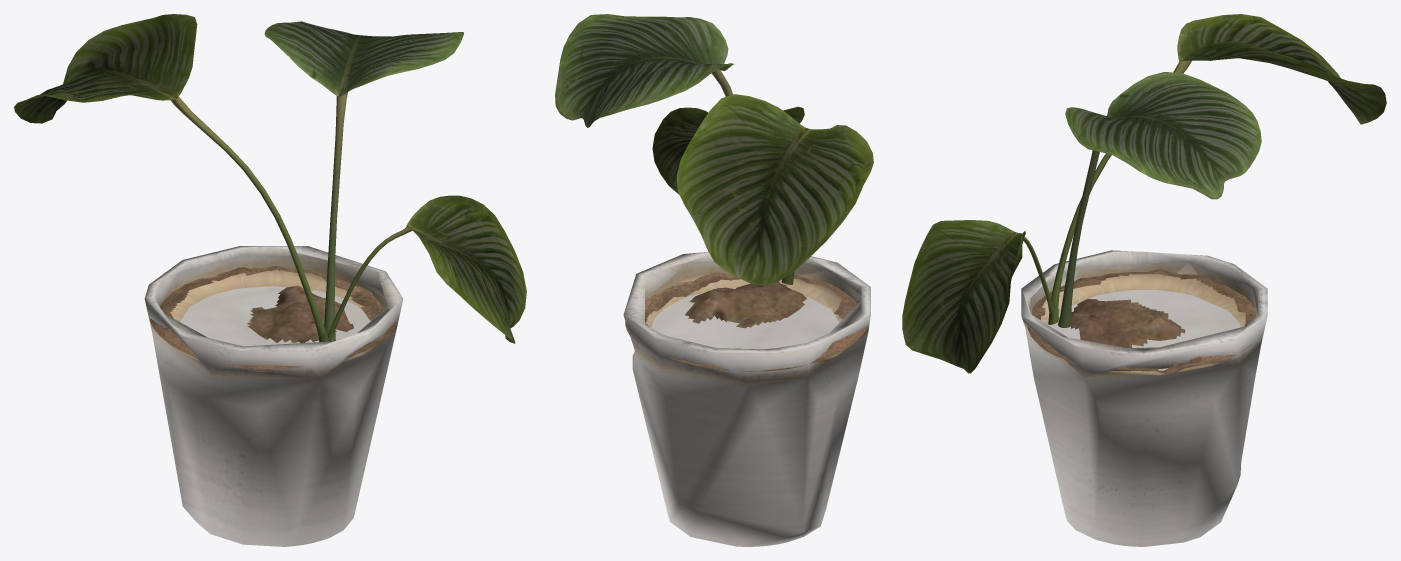
Rendered from doniczka_kalatea_1.glb.
3 renders of one model, left to right at view 1: azimuth 30°, elevation 25°; view 2: azimuth 150°, elevation 25°; view 3: azimuth 270°, elevation 25°, orthographic.
Visible parts, largest first — view 1: doniczka, roslina, ziemia; view 2: doniczka, roslina, ziemia; view 3: doniczka, roslina, ziemia.
Boxes of the visible parts, bbox=[...] form: doniczka: bbox=[144, 246, 403, 546]; roslina: bbox=[14, 14, 526, 343]; ziemia: bbox=[149, 266, 396, 369]; doniczka: bbox=[623, 251, 870, 546]; roslina: bbox=[555, 14, 873, 285]; ziemia: bbox=[625, 272, 867, 371]; doniczka: bbox=[1021, 250, 1267, 546]; roslina: bbox=[902, 14, 1386, 373]; ziemia: bbox=[1027, 268, 1255, 373].
Size of the model in its own units: 0.2128 by 0.262 by 0.2516.
2 materials, 2 textured.
